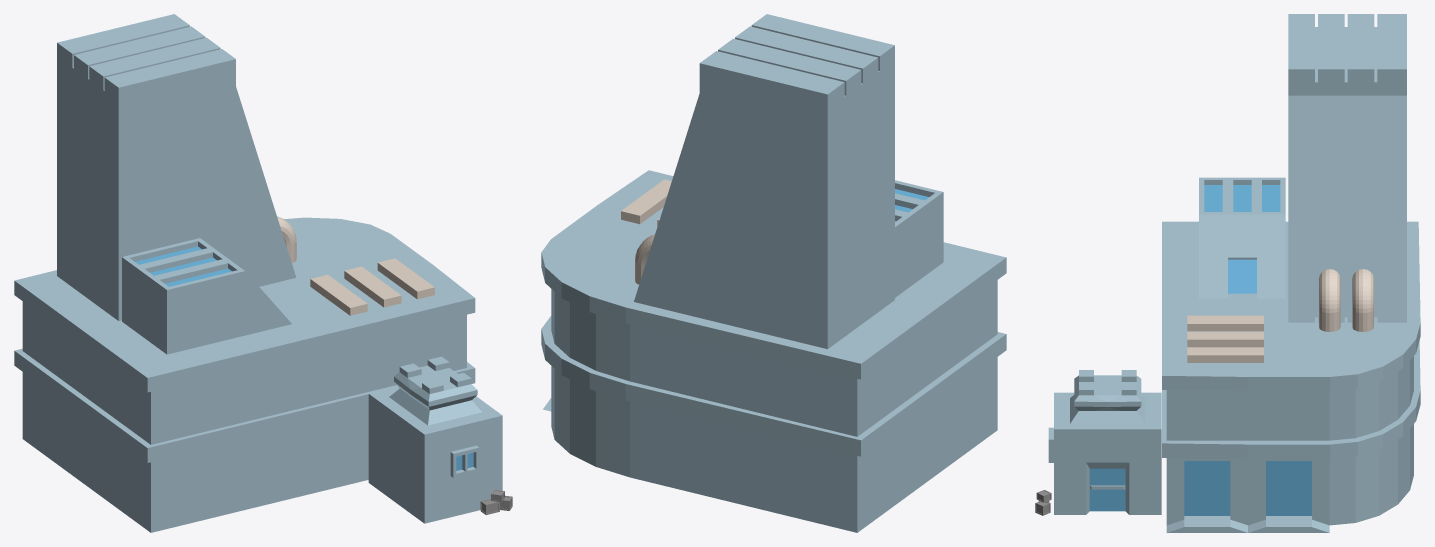
File: base_aliada.fbx
The picture shows the model from 3 angles, left to right: view 1: azimuth 30°, elevation 25°; view 2: azimuth 150°, elevation 25°; view 3: azimuth 270°, elevation 25°; orthographic projection. The views are drawn at different scales.
Visible parts, largest first — view 1: base_aliada; view 2: base_aliada; view 3: base_aliada.
Part boxes in pixels (x1,y1,x2,y2): base_aliada: [14, 14, 512, 532]; base_aliada: [541, 14, 1006, 532]; base_aliada: [1035, 14, 1420, 532].
Bounding box in the file's own units: 865 × 958 × 886.
